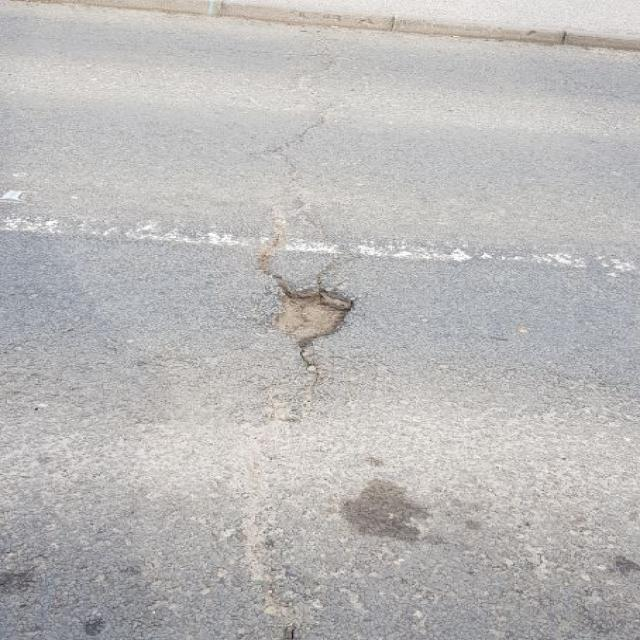pothole: (250, 276, 356, 357)
